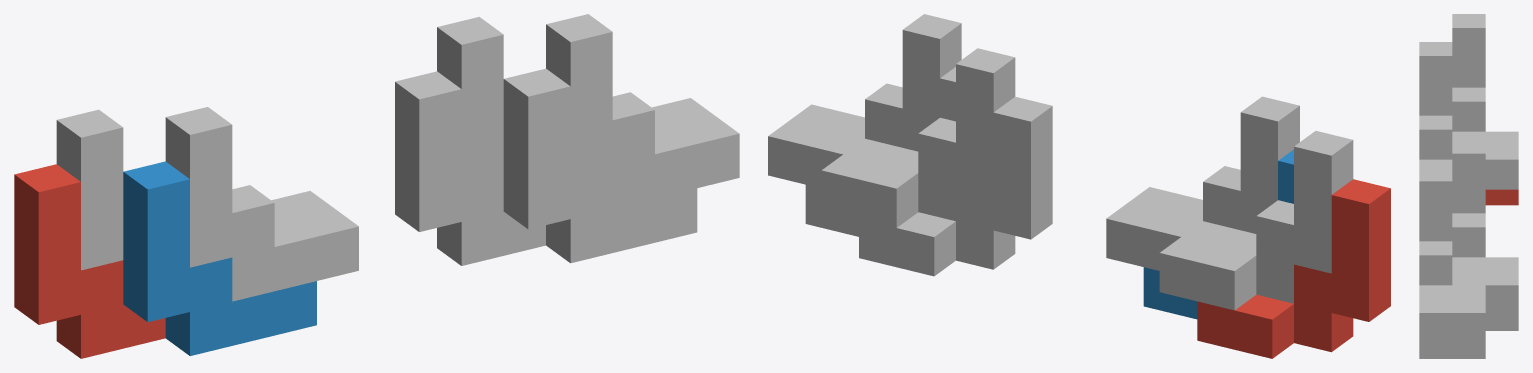
Rendered from tiling.obj.
3 views of the same model, side by side, from view 1: azimuth 30°, elevation 25°; view 2: azimuth 150°, elevation 25°; view 3: azimuth 270°, elevation 25° (orthographic). The views are drawn at different scales.
Parts seen in each view (by area): view 1: copy_1_domain_8, copy_1_domain_4, copy_1_domain_6, copy_1_domain_2, copy_1_domain_1, copy_1_domain_5, copy_1_domain_3, copy_1_domain_7; view 2: copy_1_domain_7, copy_1_domain_3, copy_1_domain_1, copy_1_domain_5, copy_1_domain_4, copy_1_domain_8, copy_1_domain_2, copy_1_domain_6; view 3: copy_1_domain_8, copy_1_domain_7, copy_1_domain_3, copy_1_domain_4, copy_1_domain_6, copy_1_domain_1, copy_1_domain_5.
Part boxes in pixels (x1=…): copy_1_domain_8: x1=546, y1=14, x2=739, y2=208; copy_1_domain_4: x1=165, y1=107, x2=358, y2=301; copy_1_domain_6: x1=503, y1=68, x2=697, y2=263; copy_1_domain_2: x1=123, y1=161, x2=316, y2=355; copy_1_domain_1: x1=14, y1=164, x2=165, y2=358; copy_1_domain_5: x1=395, y1=71, x2=545, y2=265; copy_1_domain_3: x1=56, y1=109, x2=123, y2=270; copy_1_domain_7: x1=437, y1=16, x2=503, y2=177; copy_1_domain_7: x1=821, y1=48, x2=1015, y2=227; copy_1_domain_3: x1=1159, y1=131, x2=1353, y2=310; copy_1_domain_1: x1=1197, y1=179, x2=1390, y2=358; copy_1_domain_5: x1=859, y1=96, x2=1052, y2=276; copy_1_domain_4: x1=1106, y1=96, x2=1299, y2=270; copy_1_domain_8: x1=768, y1=14, x2=961, y2=188; copy_1_domain_2: x1=1143, y1=149, x2=1293, y2=319; copy_1_domain_6: x1=805, y1=67, x2=955, y2=236; copy_1_domain_8: x1=1419, y1=167, x2=1485, y2=342; copy_1_domain_7: x1=1452, y1=139, x2=1518, y2=314; copy_1_domain_3: x1=1452, y1=14, x2=1518, y2=189; copy_1_domain_4: x1=1419, y1=42, x2=1452, y2=167; copy_1_domain_6: x1=1419, y1=343, x2=1485, y2=358; copy_1_domain_1: x1=1485, y1=189, x2=1518, y2=205; copy_1_domain_5: x1=1485, y1=315, x2=1518, y2=330.
Size of the model in its own units: 16 by 5 by 3.
